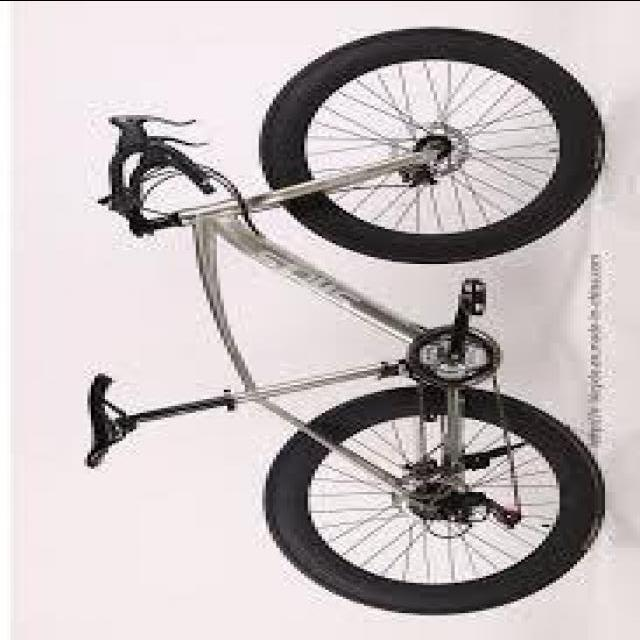bicycle: (74, 10, 612, 608)
